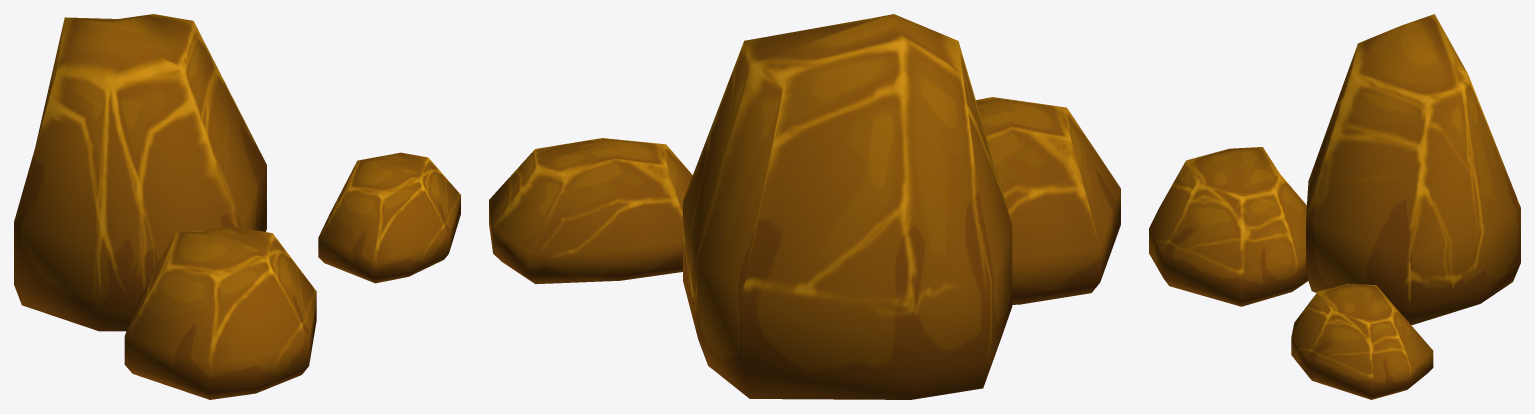
The model's file is RockGroup_3.FBX.
3 renders of one model, left to right at view 1: azimuth 30°, elevation 25°; view 2: azimuth 150°, elevation 25°; view 3: azimuth 270°, elevation 25°, orthographic. The views are drawn at different scales.
Parts seen in each view (by area): view 1: RockGroup3; view 2: RockGroup3; view 3: RockGroup3.
Part boxes in pixels (<box>): RockGroup3: <box>14,14,460,399</box>; RockGroup3: <box>489,14,1120,399</box>; RockGroup3: <box>1149,14,1520,399</box>.
Bounding box in the file's own units: 44.79 × 27.26 × 39.03.
1 material, 1 textured.
